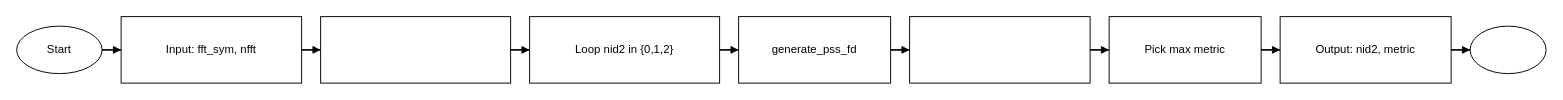
Some shapes in this 1563 by 100 pixel diagram are drawn without their labels. Here are the shapes that lost their labels. From the top down, the centre of each, then its label:
[415,49]: Extract 62 center bins
[999,49]: Correlation metric (norm)
[1507,49]: End
